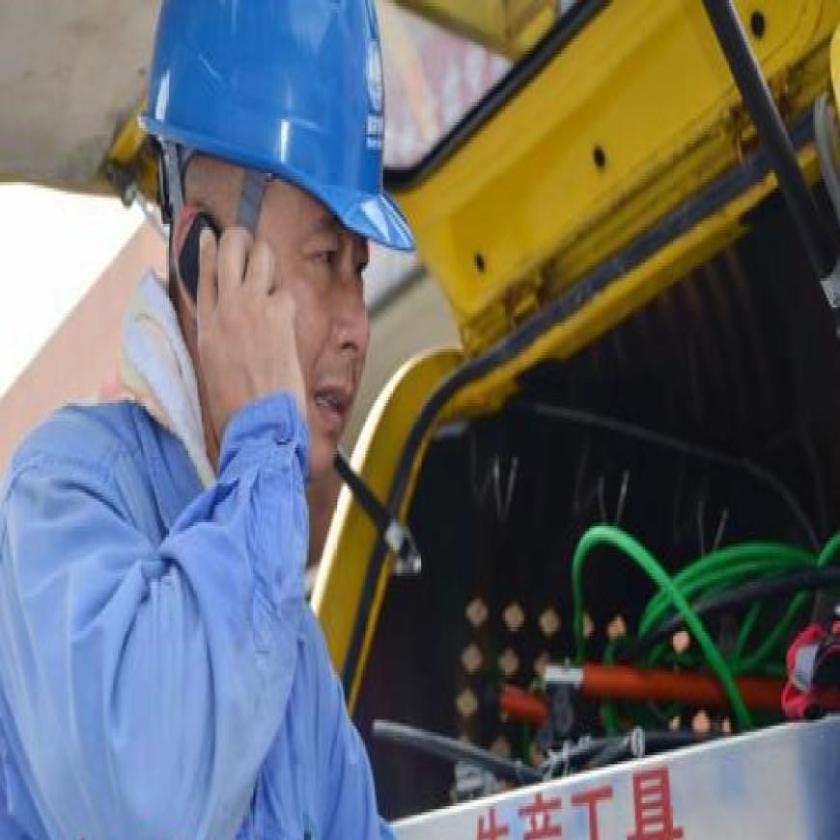Con_casco: (137, 0, 425, 532)
